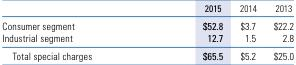table: (1, 1, 292, 61)
table column: (1, 1, 146, 61), (146, 1, 230, 61), (230, 1, 264, 61), (264, 1, 292, 61)
table column header: (1, 1, 292, 15)
table row: (1, 15, 292, 31), (1, 31, 292, 46), (1, 46, 292, 61), (1, 1, 292, 15)
